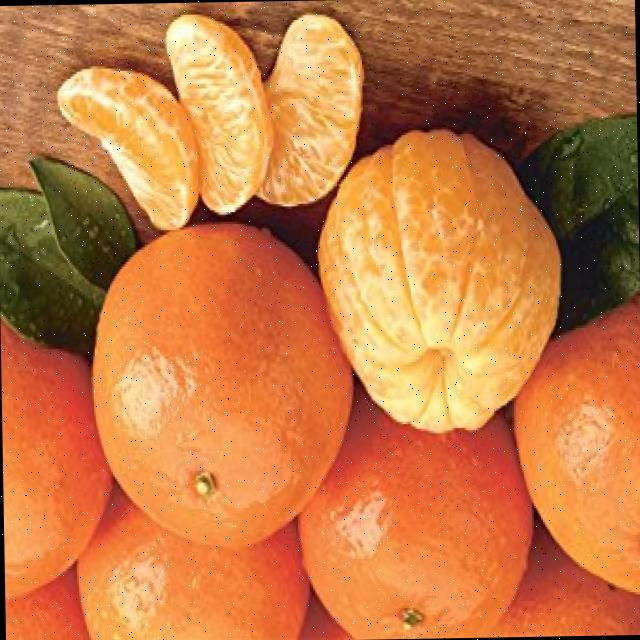Jeruk: (87, 219, 356, 553), (314, 127, 564, 437), (293, 378, 535, 640), (509, 286, 640, 603), (73, 482, 310, 640), (0, 285, 115, 604), (55, 65, 198, 234), (162, 13, 274, 218), (251, 13, 366, 208), (484, 515, 640, 637), (4, 565, 93, 640)
